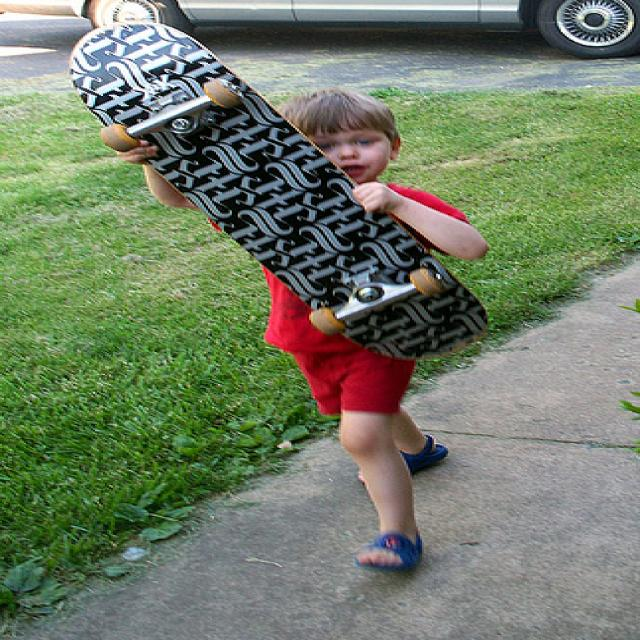Vehicle: (6, 0, 634, 53)
